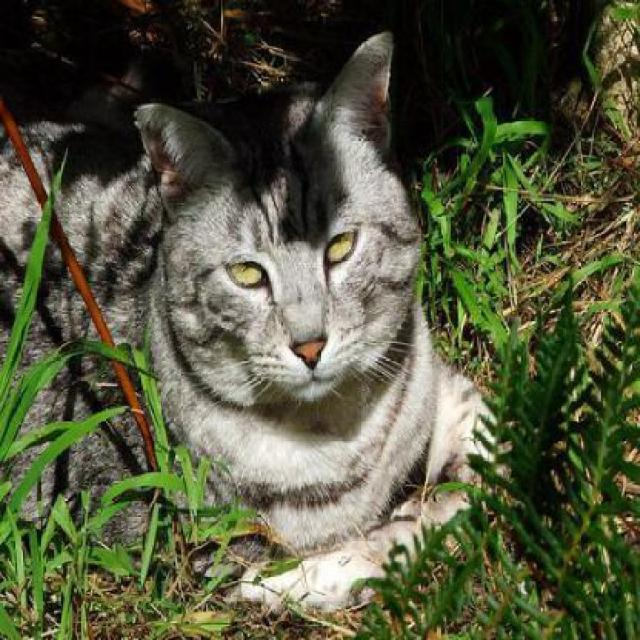cat: (4, 32, 484, 572)
